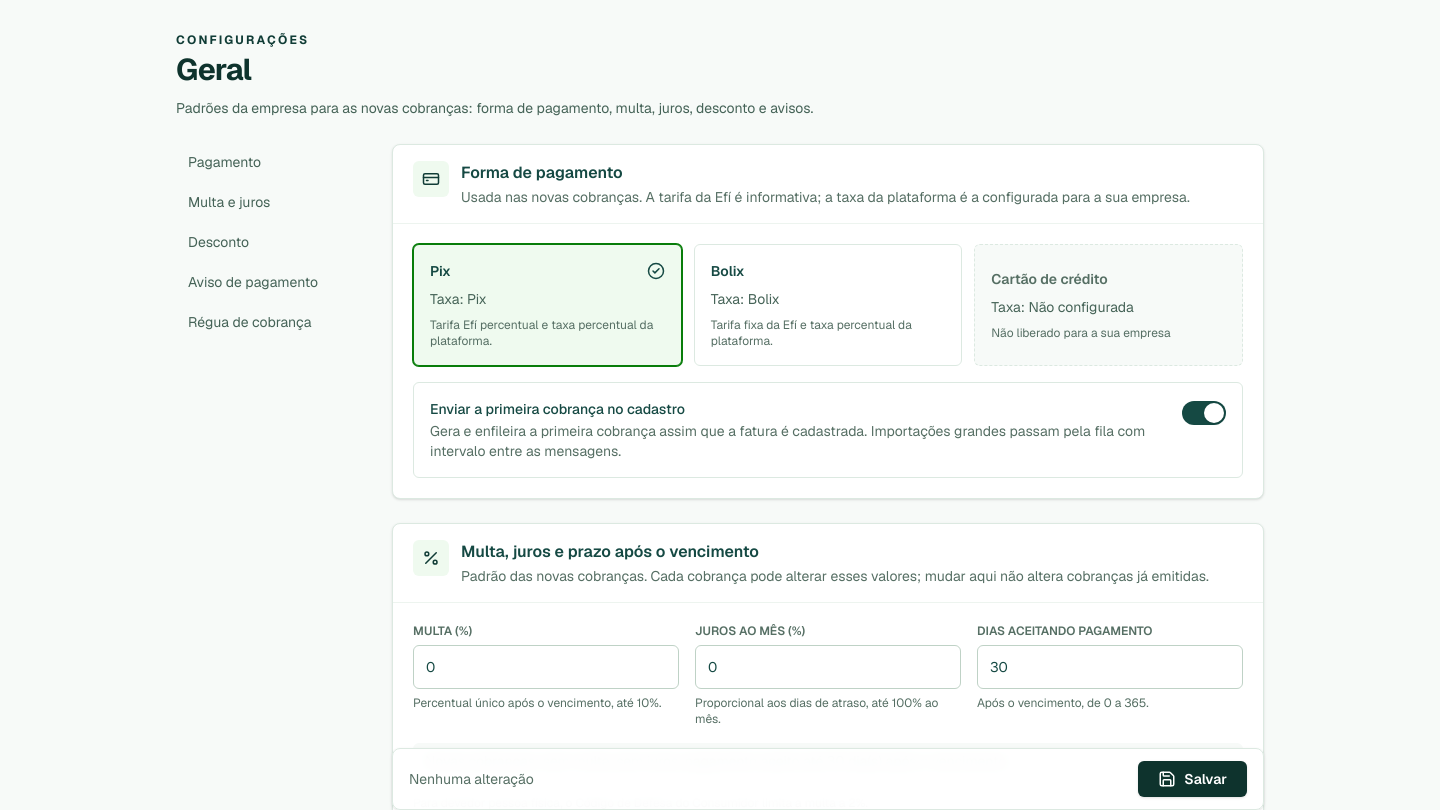
Test: late terms defaults › refuses a fine above the Efí limit without saving
expect the button "Salvar" is enabled: met, box [1138,761,1247,797]
Type "12" into the field labelled "Multa (%) Percentual único após o vencimento, até 10%." at {"x": 546, "y": 667}, box [413,645,679,689]
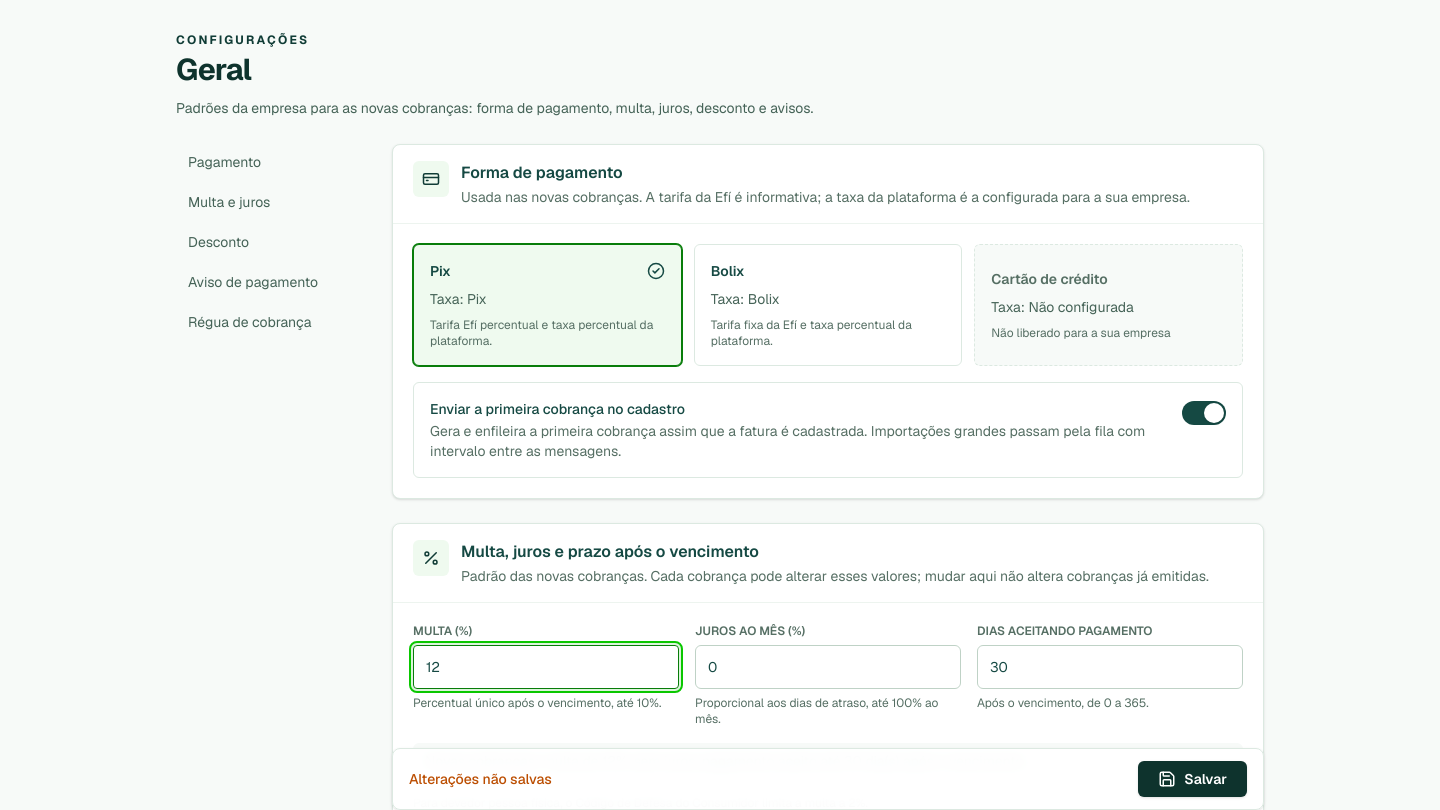
Click the button "Salvar" at {"x": 1193, "y": 779}, box [1138,761,1247,797]
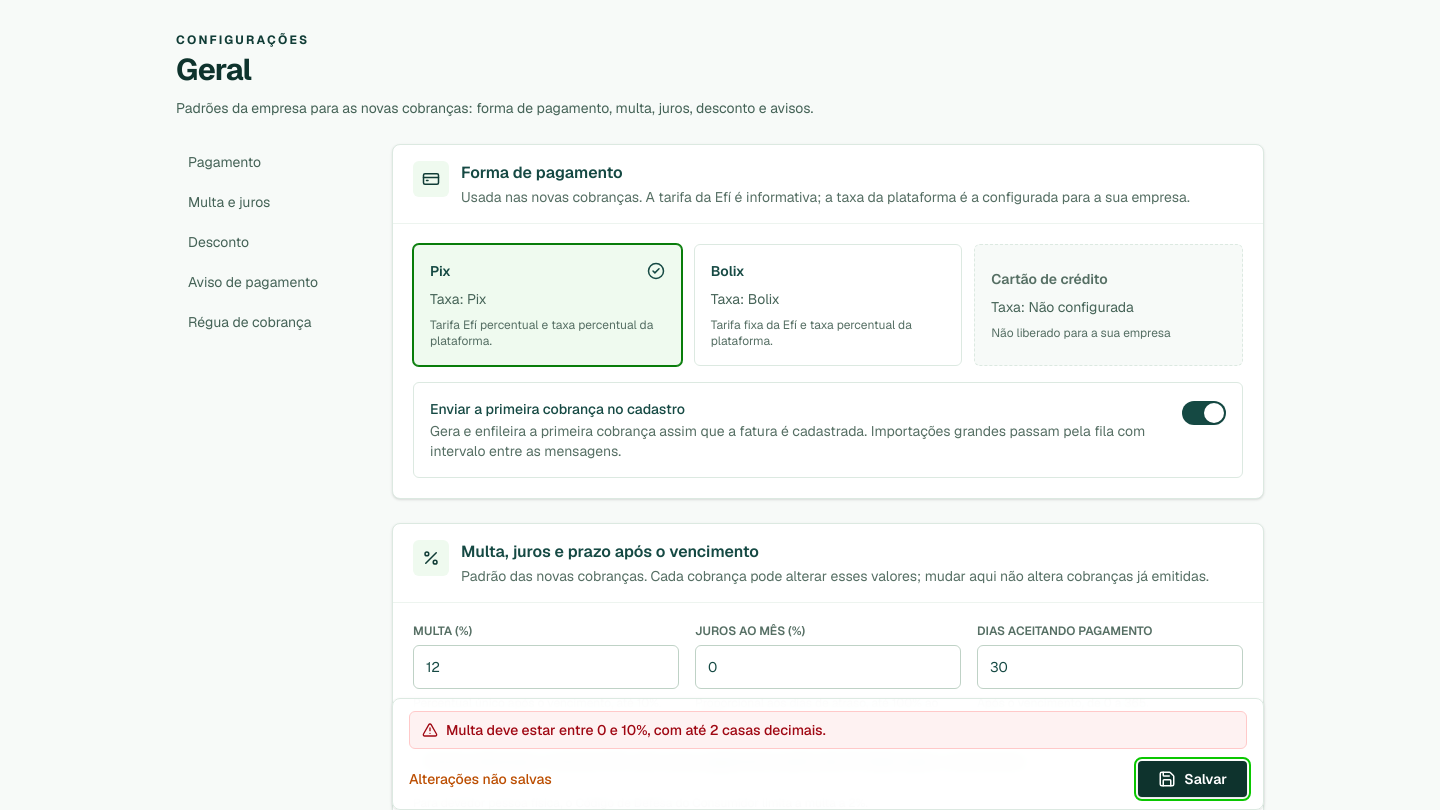
expect the text "Multa deve estar entre 0 e 10%, com até 2 casas decimais." is shown: met, box [409,711,1247,749]
